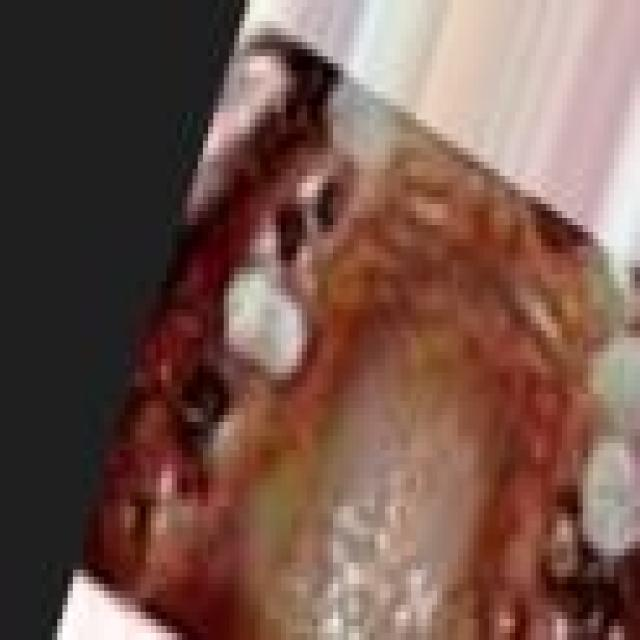caries: (541, 492, 640, 640), (162, 354, 240, 476), (252, 187, 311, 293), (300, 161, 358, 250)
